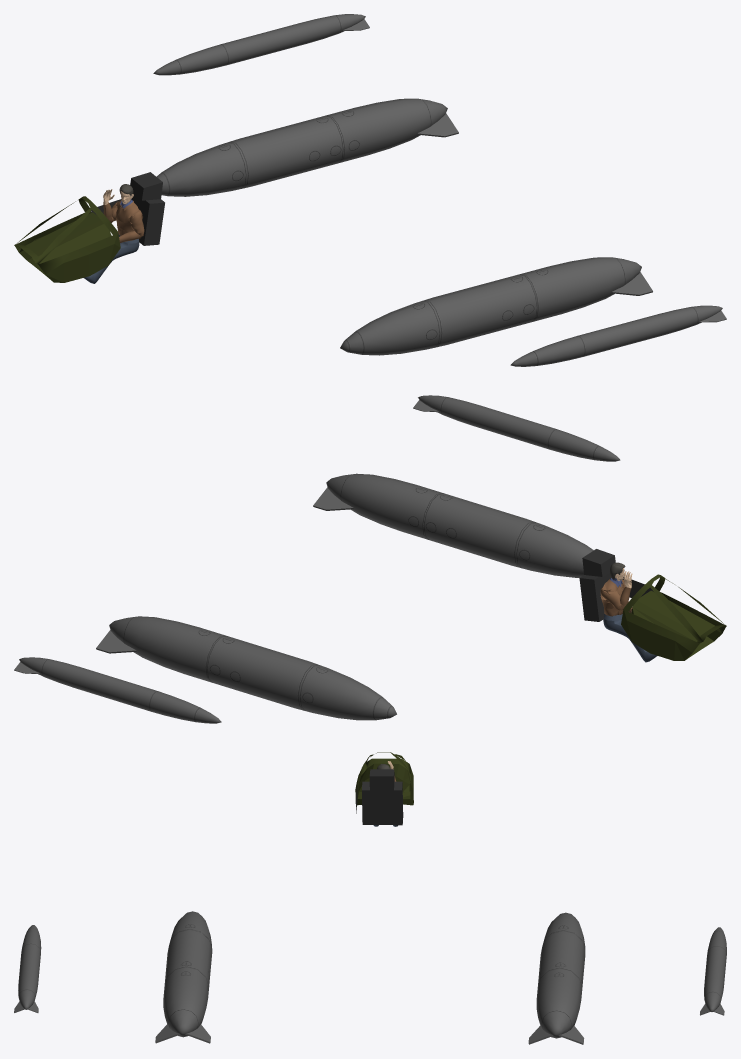
File: drop_t.glb
3 renders of one model, top to bottom at view 1: azimuth 30°, elevation 25°; view 2: azimuth 150°, elevation 25°; view 3: azimuth 270°, elevation 25°, orthographic. The views are drawn at different scales.
Visible parts, largest first — view 1: Capsule02-FACES.001, Capsule03-FACES.001, Object01-FACES.001, Box05-FACES.001; view 2: Capsule03-FACES.001, Capsule02-FACES.001, Object01-FACES.001, Box05-FACES.001, PILOT_BODY-FACES.001; view 3: Capsule03-FACES.001, Capsule02-FACES.001, Box05-FACES.001, Object01-FACES.001.
Part boxes in pixels (x1,y1,x2,y2): Capsule02-FACES.001: [340, 257, 726, 366]; Capsule03-FACES.001: [153, 14, 458, 196]; Object01-FACES.001: [14, 196, 120, 282]; Box05-FACES.001: [130, 172, 164, 245]; Capsule03-FACES.001: [14, 616, 396, 723]; Capsule02-FACES.001: [313, 395, 620, 577]; Object01-FACES.001: [621, 574, 726, 660]; Box05-FACES.001: [579, 549, 615, 621]; PILOT_BODY-FACES.001: [603, 614, 657, 662]; Capsule03-FACES.001: [528, 912, 726, 1044]; Capsule02-FACES.001: [14, 911, 212, 1043]; Box05-FACES.001: [362, 769, 403, 825]; Object01-FACES.001: [355, 752, 413, 805].
Bounding box in the file's own units: 8.48 × 2.05 × 11.09.
19 materials, 2 textured.
